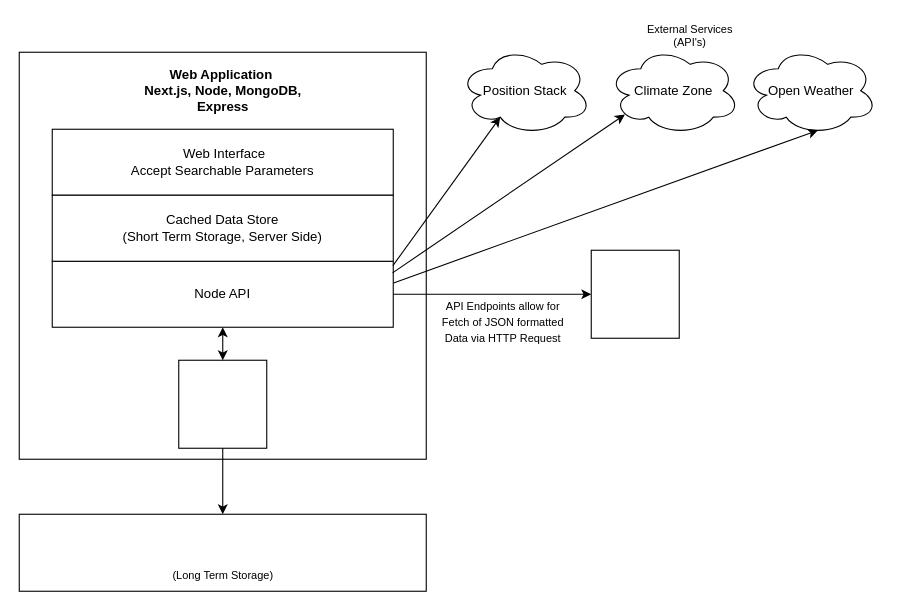
Some shapes in this 897 by 611 pixel diagram are drawn without their labels. Each missing label, with the box of its shape:
MongoDB: (18, 513, 426, 591)
MongoDB Client: (178, 359, 267, 448)
Python NoteBook: (590, 249, 679, 338)
